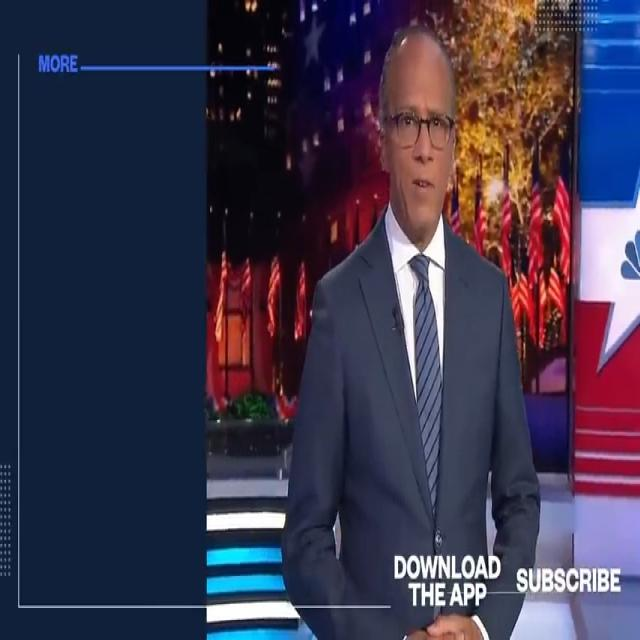non-fight: (278, 22, 546, 640)
